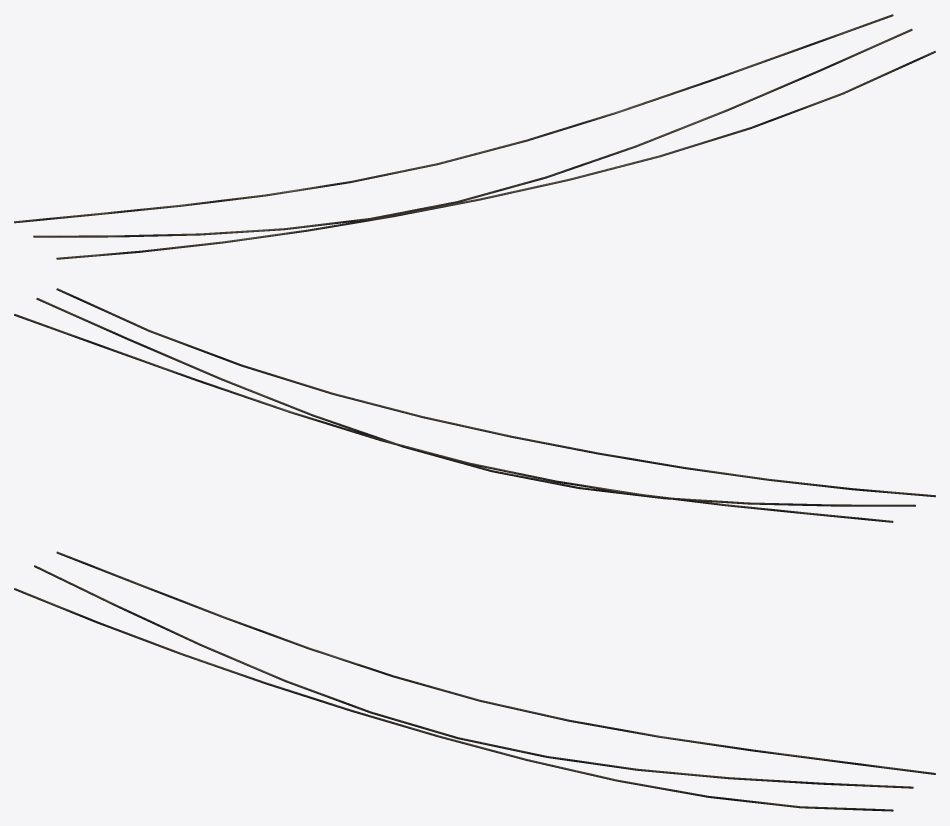
The model's file is PowerLine02.fbx.
3 renders of one model, top to bottom at view 1: azimuth 30°, elevation 25°; view 2: azimuth 150°, elevation 25°; view 3: azimuth 330°, elevation 25°, orthographic.
Visible parts, largest first — view 1: PowerLine02; view 2: PowerLine02; view 3: PowerLine02.
Part boxes in pixels (x1,y1,x2,y2): PowerLine02: (14,14,935,259); PowerLine02: (14,288,935,522); PowerLine02: (14,551,935,811).
Size of the model in its own units: 1636 by 125 by 140.
